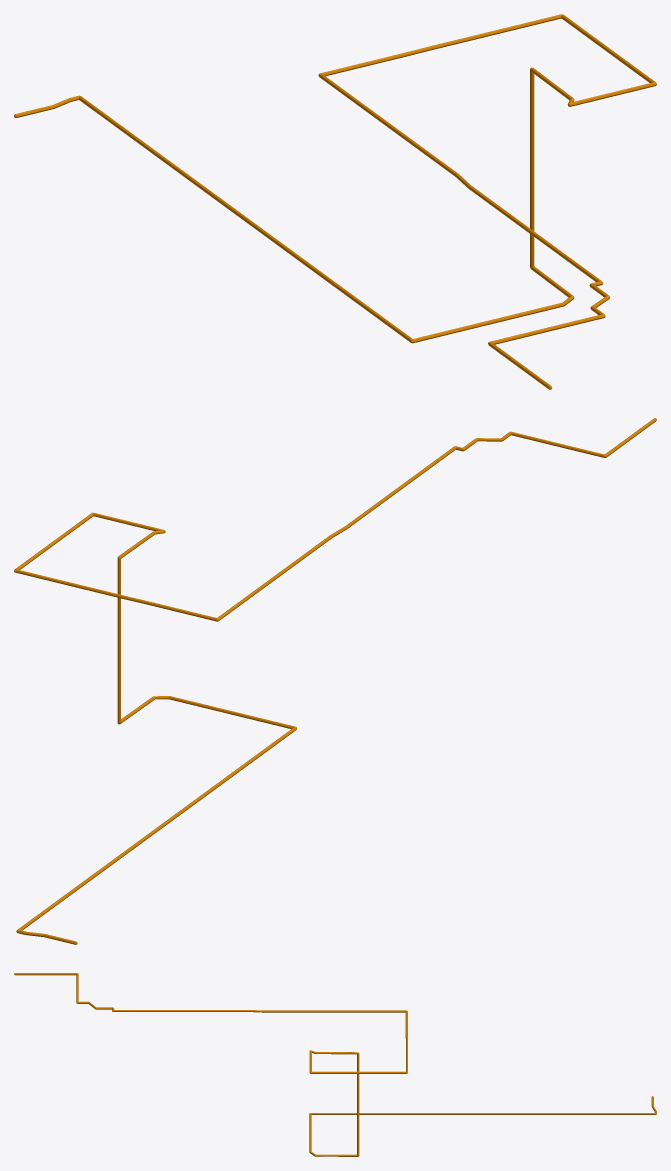
3 renders of one model, top to bottom at view 1: azimuth 30°, elevation 25°; view 2: azimuth 150°, elevation 25°; view 3: azimuth 270°, elevation 25°, orthographic. The views are drawn at different scales.
Size of the model in its own units: 2081 by 1020 by 5678.
